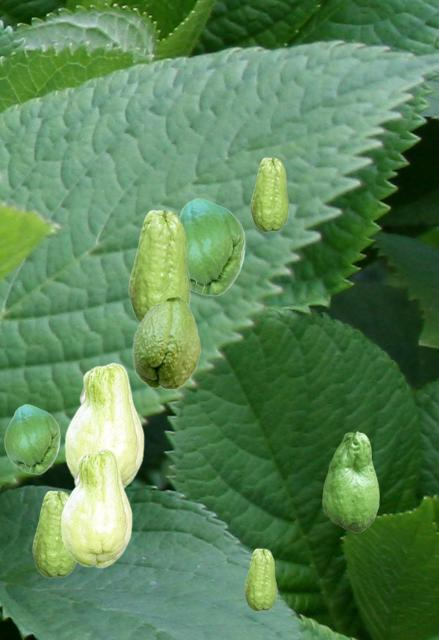sayote: (64, 362, 143, 488), (60, 448, 131, 567), (128, 209, 190, 322), (132, 295, 200, 389), (179, 198, 244, 295), (322, 431, 378, 531), (32, 490, 76, 577), (4, 404, 59, 473), (250, 157, 288, 231), (244, 548, 276, 610)
